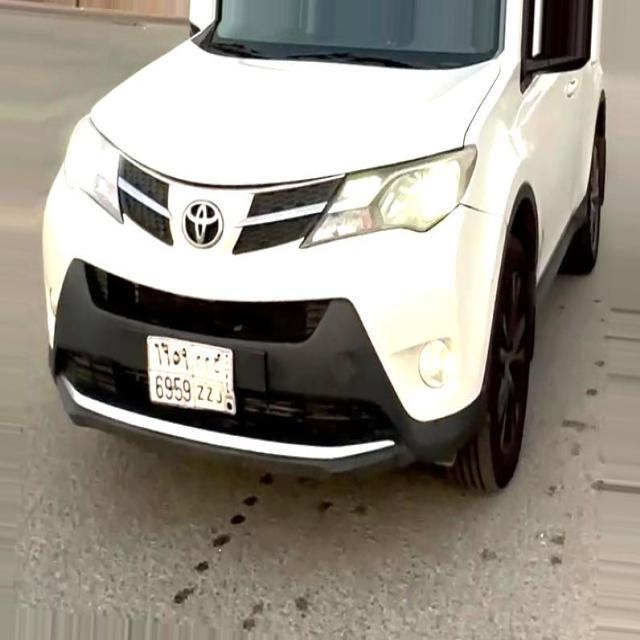Car-plate: (135, 322, 248, 437)
